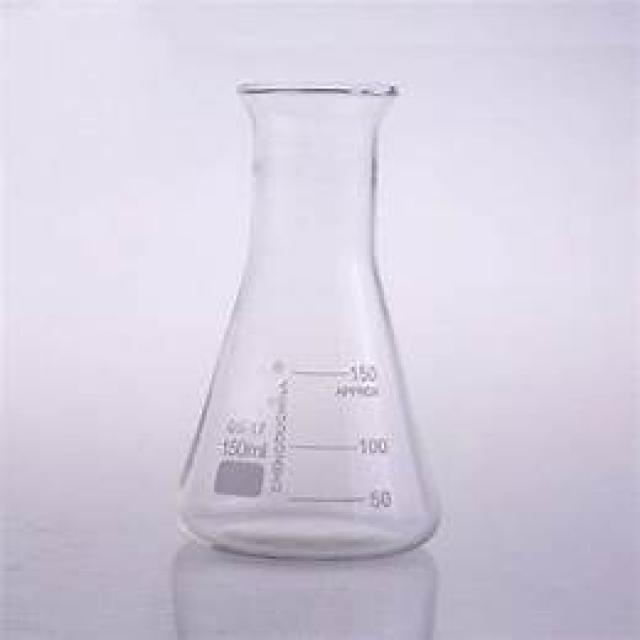Titrarion: (178, 72, 450, 560)
